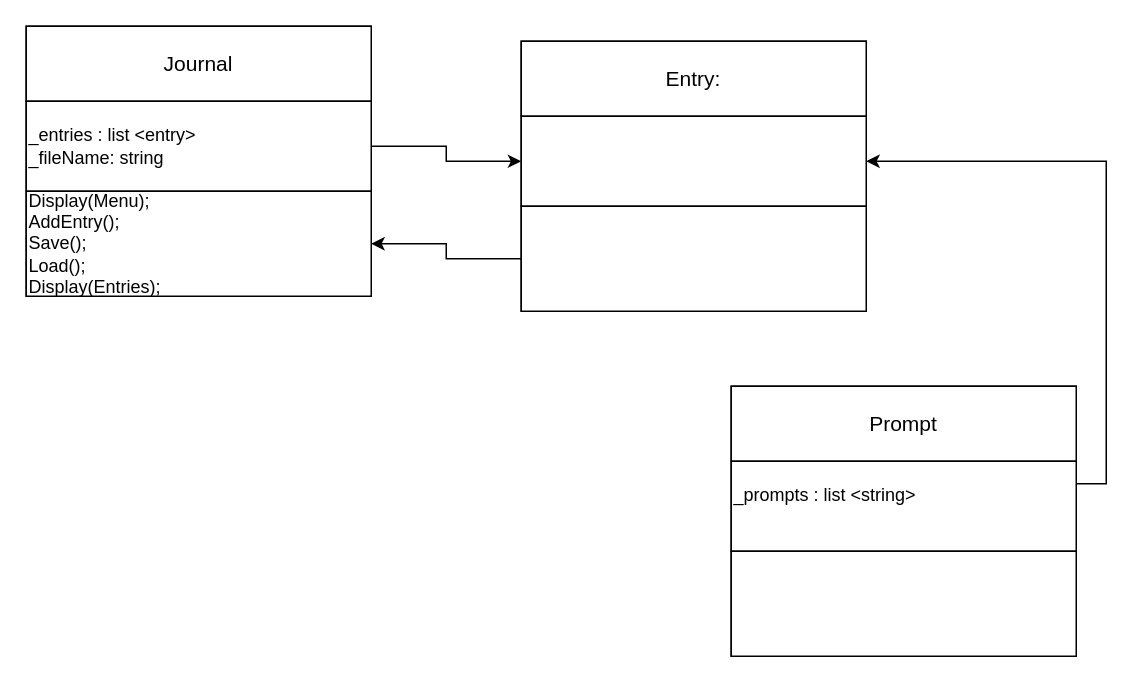
The diagram is 1145 pixels wide and 683 high, and some of its shapes have lost their labels. Each missing label, with the centre of its shape:
_userEntry : string _date : string _response: string _prompt : string: pixel 693 160
GeneratePrompt(): pixel 903 603
GetResponse() Display(): pixel 693 258
